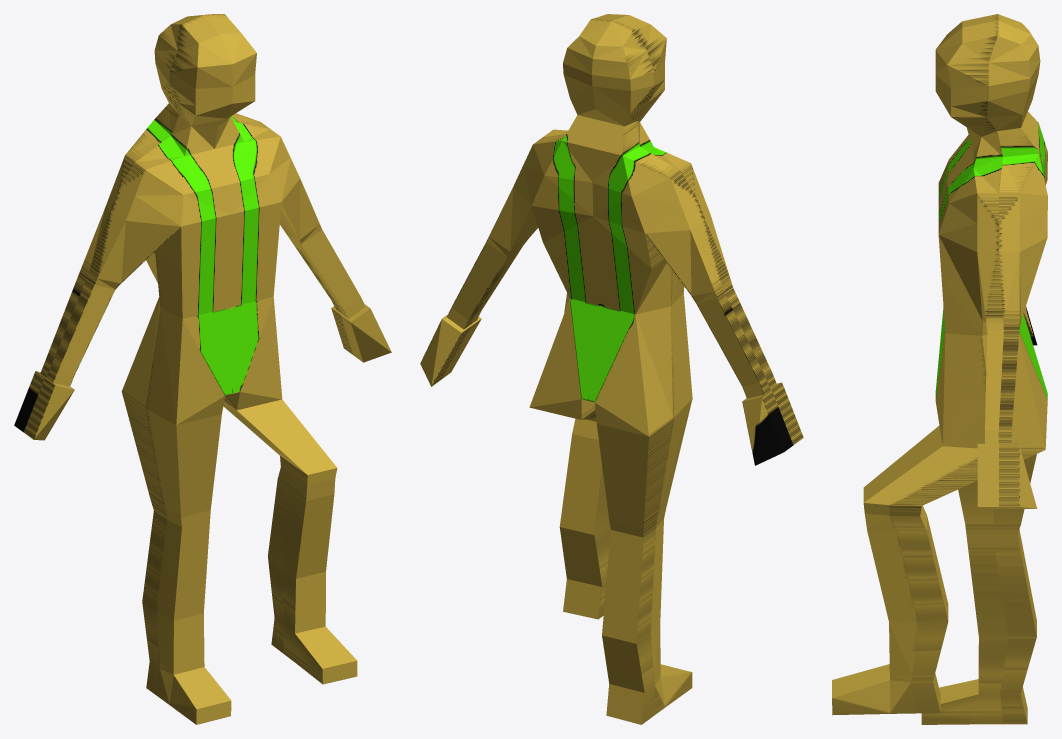
3 renders of one model, left to right at view 1: azimuth 30°, elevation 25°; view 2: azimuth 150°, elevation 25°; view 3: azimuth 270°, elevation 25°, orthographic. The views are drawn at different scales.
Visible parts, largest first — view 1: Borat; view 2: Borat; view 3: Borat.
Boxes of the visible parts, <box> form: Borat: <box>14,14,391,724</box>; Borat: <box>420,14,803,724</box>; Borat: <box>832,14,1047,724</box>.
Bounding box in the file's own units: 1.79 × 3.21 × 0.8864.
